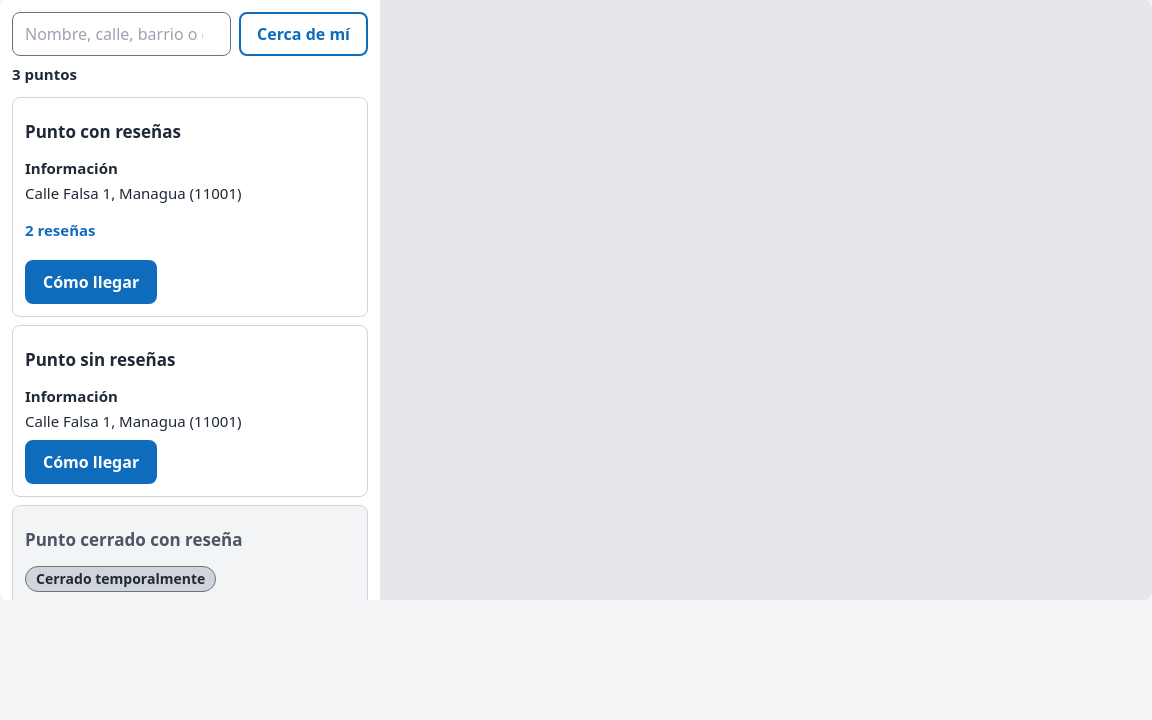
Test: reseñas en la ficha pública › el listado muestra «N reseñas» plegado y, al abrirlo, el texto, el autor y la fecha
Click the heading "2 reseñas": [60, 230] box [25,220,96,240]
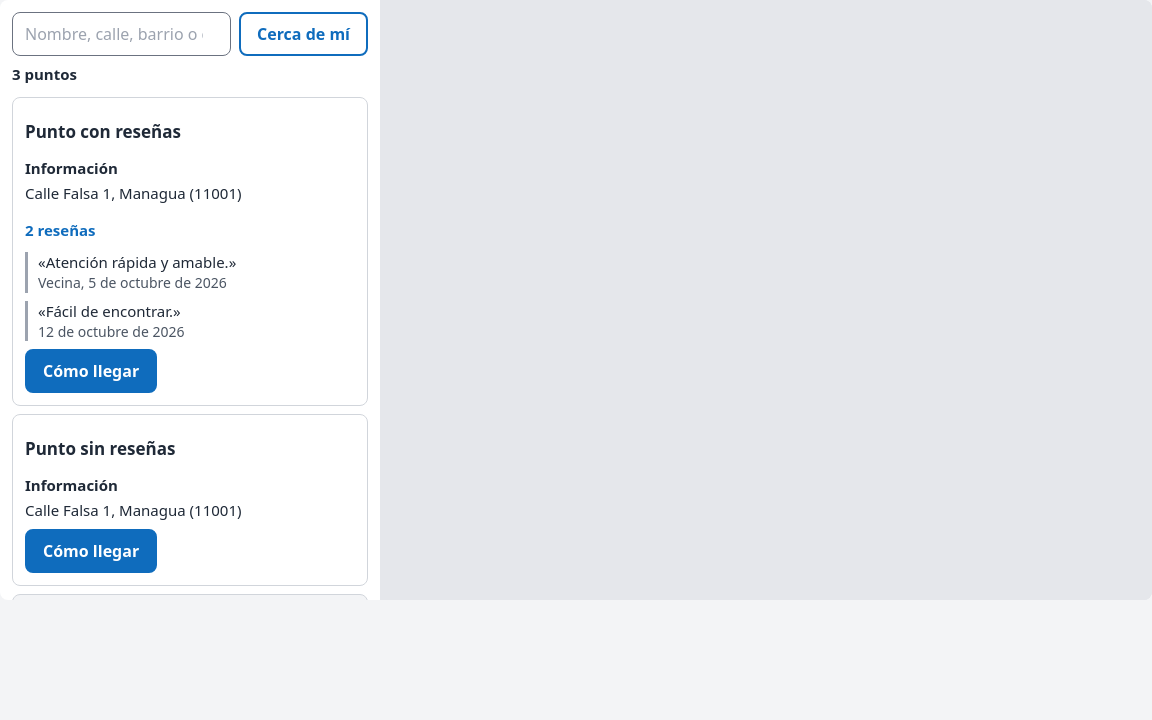
Expected: the text "«Atención rápida y amable.»" is shown, [38,252,236,272]
Expected: the text "Vecina, 5 de octubre de 2026" is shown, [38,273,227,292]
